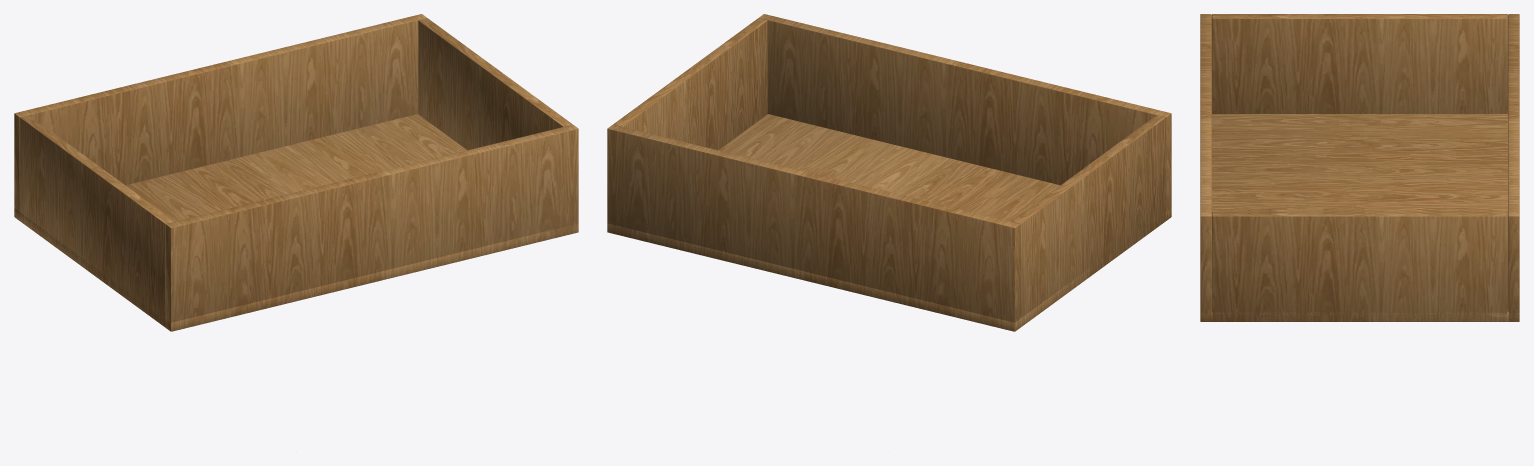
File: REV-ARG-002_anim.glb
The picture shows the model from 3 angles, left to right: view 1: azimuth 30°, elevation 25°; view 2: azimuth 150°, elevation 25°; view 3: azimuth 270°, elevation 25°; orthographic projection.
Parts seen in each view (by area): view 1: REV-ARG-002_anim0; view 2: REV-ARG-002_anim0; view 3: REV-ARG-002_anim0.
Part boxes in pixels (box(x1,y1,x2,y2)): REV-ARG-002_anim0: box(14, 14, 578, 331); REV-ARG-002_anim0: box(607, 14, 1171, 331); REV-ARG-002_anim0: box(1200, 14, 1519, 321).
Size of the model in its own units: 0.9 by 0.698 by 0.6.
2 materials, 2 textured.
